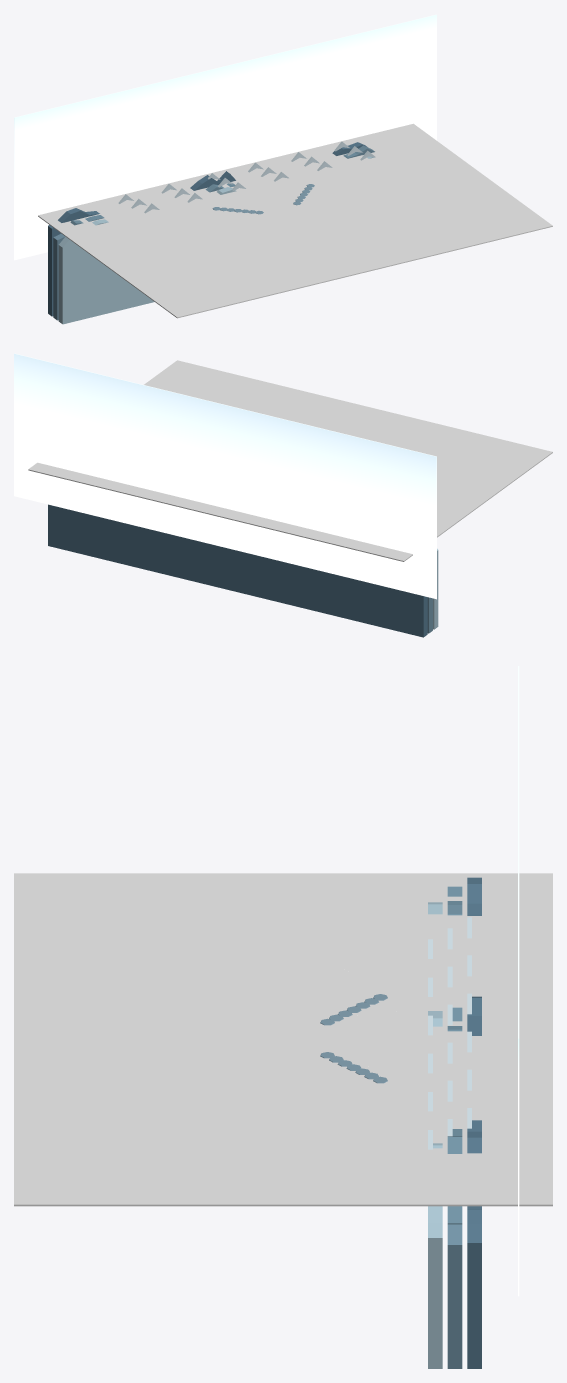
File: frozenriver.glb
3 renders of one model, top to bottom at view 1: azimuth 30°, elevation 25°; view 2: azimuth 150°, elevation 25°; view 3: azimuth 270°, elevation 25°, orthographic. The views are drawn at different scales.
Visible parts, largest first — view 1: Ground contact / transparent shadow receiver.061, Sky gradient / editable material.061, World / terrain and architecture.024; view 2: Sky gradient / editable material.061, Ground contact / transparent shadow receiver.061, World / terrain and architecture.024; view 3: Ground contact / transparent shadow receiver.061, World / terrain and architecture.024, Sky gradient / editable material.061, Foreground / edge details.022.
Part boxes in pixels (x1=…): Ground contact / transparent shadow receiver.061: x1=38, y1=123, x2=552, y2=318; Sky gradient / editable material.061: x1=14, y1=14, x2=436, y2=260; World / terrain and architecture.024: x1=48, y1=141, x2=375, y2=324; Sky gradient / editable material.061: x1=14, y1=353, x2=436, y2=599; Ground contact / transparent shadow receiver.061: x1=28, y1=360, x2=552, y2=561; World / terrain and architecture.024: x1=48, y1=504, x2=438, y2=637; Ground contact / transparent shadow receiver.061: x1=14, y1=873, x2=552, y2=1206; World / terrain and architecture.024: x1=428, y1=877, x2=481, y2=1368; Sky gradient / editable material.061: x1=518, y1=666, x2=519, y2=1296; Foreground / edge details.022: x1=320, y1=994, x2=387, y2=1083.
Bounding box in the file's own units: 180 × 79 × 110.
